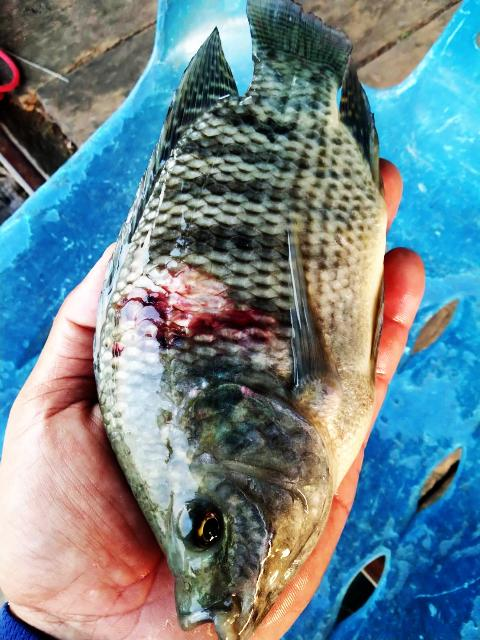Columnaris Disease: (94, 0, 386, 640)
